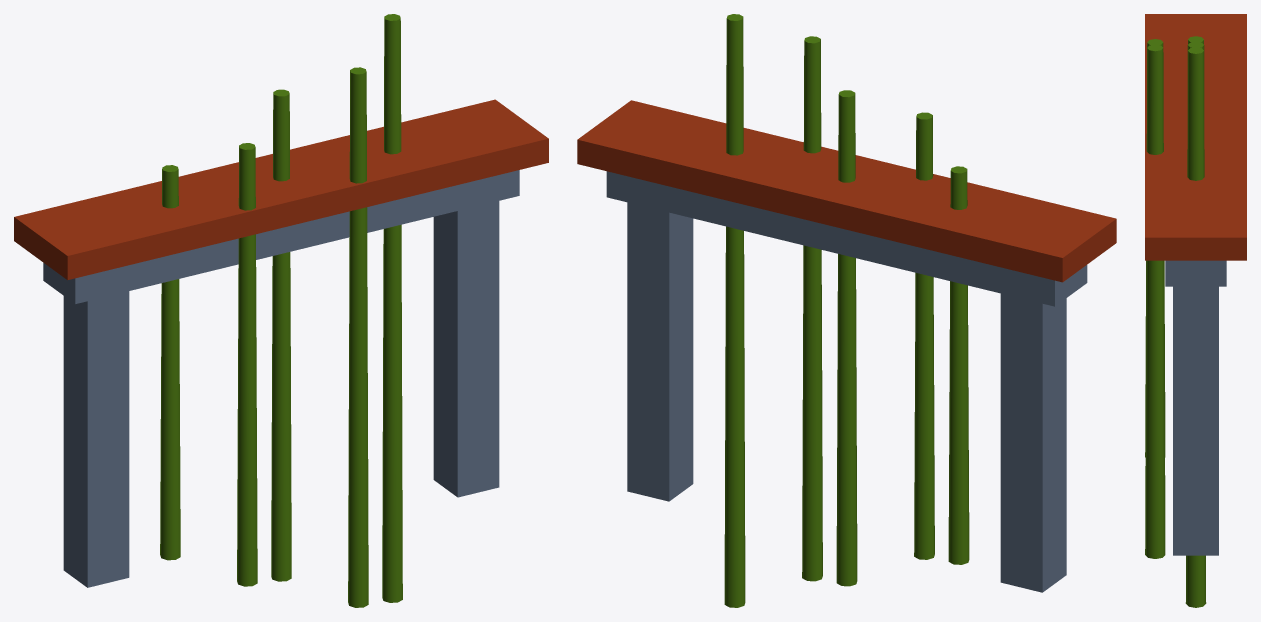
The model's file is Scenery.glb.
The picture shows the model from 3 angles, left to right: view 1: azimuth 30°, elevation 25°; view 2: azimuth 150°, elevation 25°; view 3: azimuth 270°, elevation 25°; orthographic projection. The views are drawn at different scales.
Bounding box in the file's own units: 5.2 × 6 × 1.
